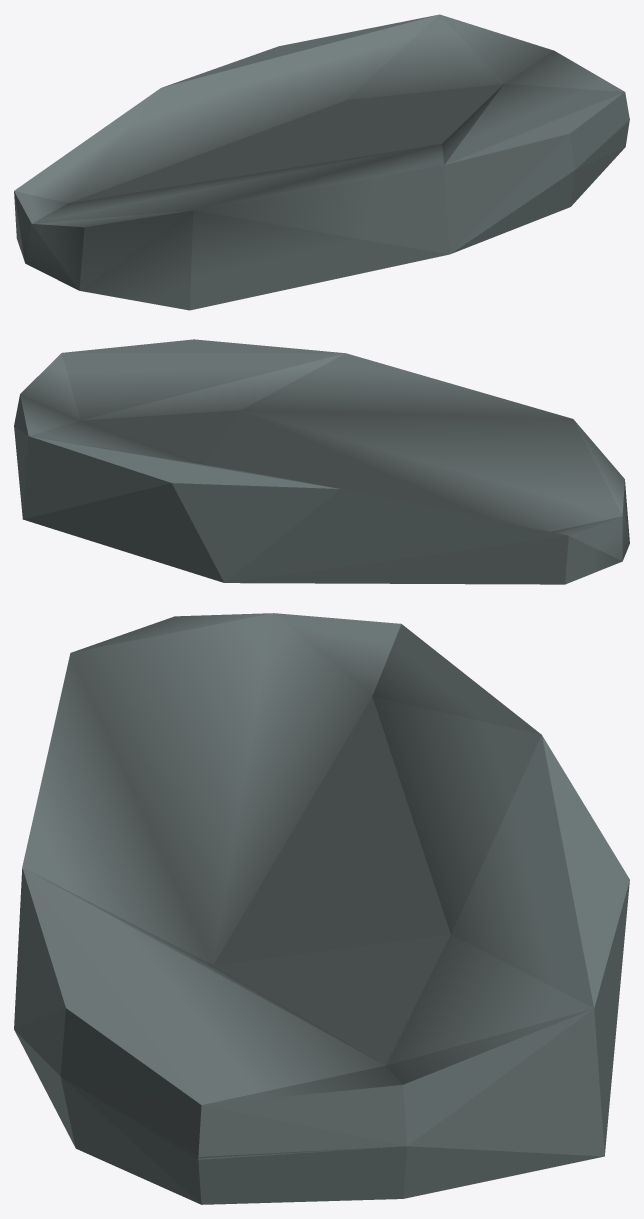
File: SFI_Meat_Raw_004.fbx
The picture shows the model from 3 angles, top to bottom: view 1: azimuth 30°, elevation 25°; view 2: azimuth 150°, elevation 25°; view 3: azimuth 270°, elevation 25°; orthographic projection. The views are drawn at different scales.
Visible parts, largest first — view 1: SFI_Meat_Raw_004; view 2: SFI_Meat_Raw_004; view 3: SFI_Meat_Raw_004.
Part boxes in pixels (x1,y1,x2,y2): SFI_Meat_Raw_004: [14, 14, 629, 310]; SFI_Meat_Raw_004: [14, 339, 629, 584]; SFI_Meat_Raw_004: [14, 613, 629, 1204].
Size of the model in its own units: 64.54 by 10.98 by 32.92.
